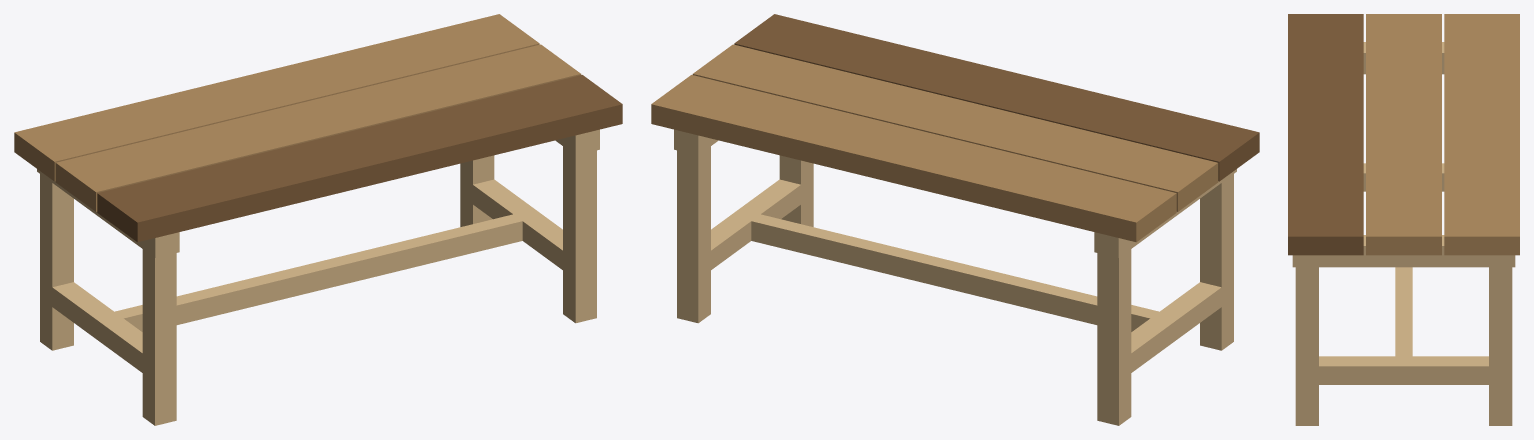
Rendered from TW_TABLE_LONG_A_LOD0.glb.
3 renders of one model, left to right at view 1: azimuth 30°, elevation 25°; view 2: azimuth 150°, elevation 25°; view 3: azimuth 270°, elevation 25°, orthographic. The views are drawn at different scales.
Parts seen in each view (by area): view 1: TW_TABLE_LONG_A_LOD0; view 2: TW_TABLE_LONG_A_LOD0; view 3: TW_TABLE_LONG_A_LOD0.
Boxes of the visible parts, x1,y1,x2,y2 form: TW_TABLE_LONG_A_LOD0: (14,14,622,425); TW_TABLE_LONG_A_LOD0: (651,14,1259,425); TW_TABLE_LONG_A_LOD0: (1288,14,1519,425).
Size of the model in its own units: 1.8 by 0.75 by 0.792.
1 material, 1 textured.
